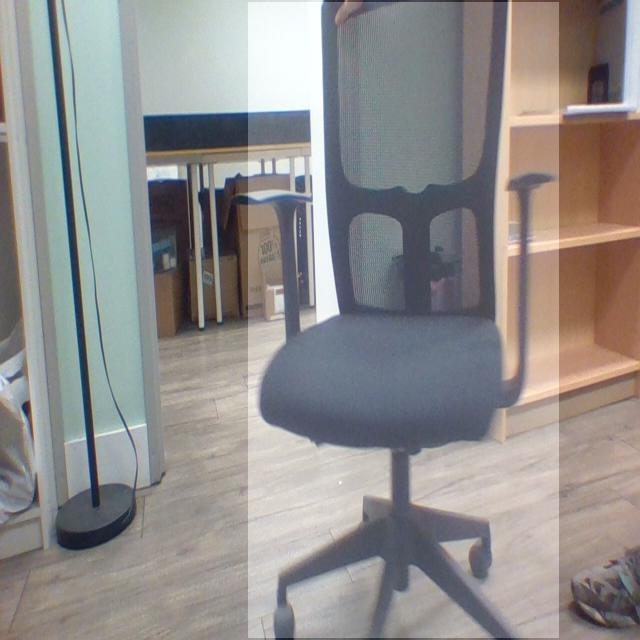chair: (244, 0, 559, 640)
